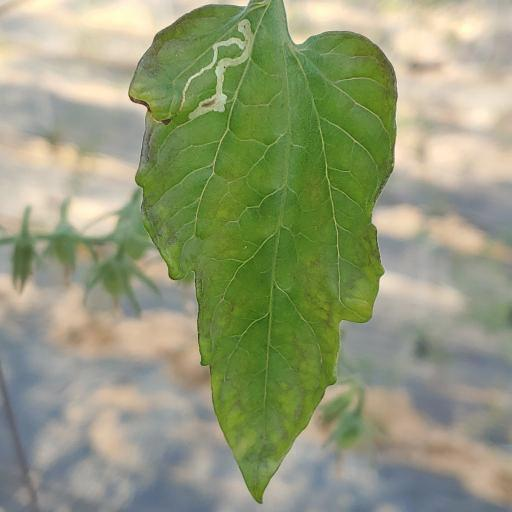Leaf Miner: (127, 2, 399, 504)
